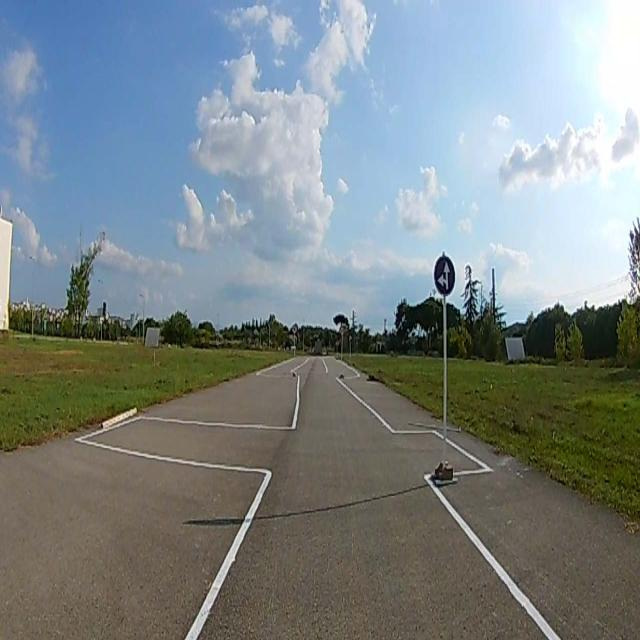ilerisol: (433, 254, 455, 295)
